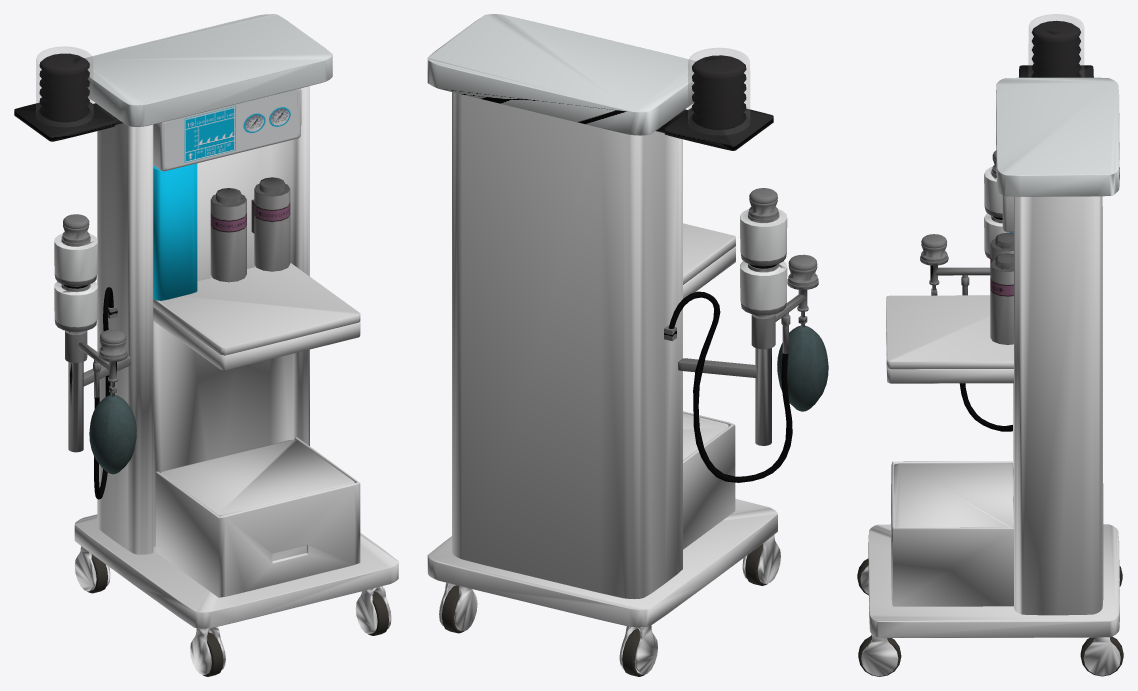
The model's file is BSQ02.fbx.
3 views of the same model, side by side, from view 1: azimuth 30°, elevation 25°; view 2: azimuth 150°, elevation 25°; view 3: azimuth 270°, elevation 25° (orthographic). The views are drawn at different scales.
Visible parts, largest first — view 1: BSQ02; view 2: BSQ02; view 3: BSQ02.
Part boxes in pixels (box(x1,y1,x2,y2)): BSQ02: box(14, 14, 398, 676); BSQ02: box(427, 14, 828, 676); BSQ02: box(857, 14, 1123, 676).
Size of the model in its own units: 75.06 by 145 by 63.92.
